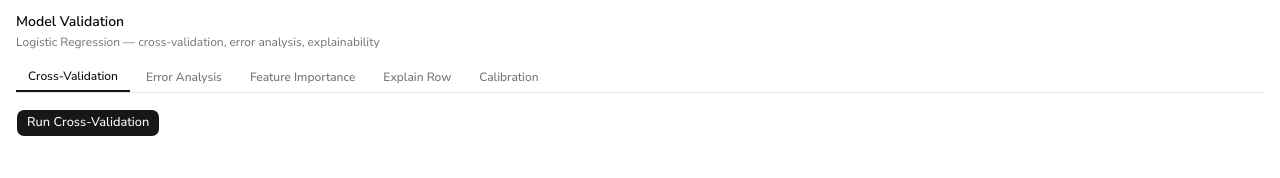
Scenario: Calibration tab › shows 'not available' message when calibration returns 400
Click the tab "Calibration" at (509, 77), box [467,62,550,92]
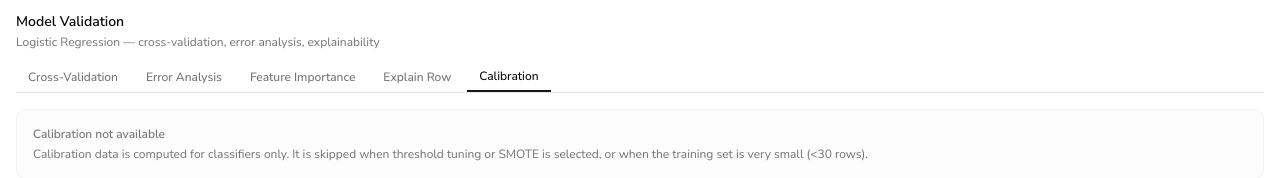
Now the text "Calibration not available" is shown, box [33,126,165,142]
